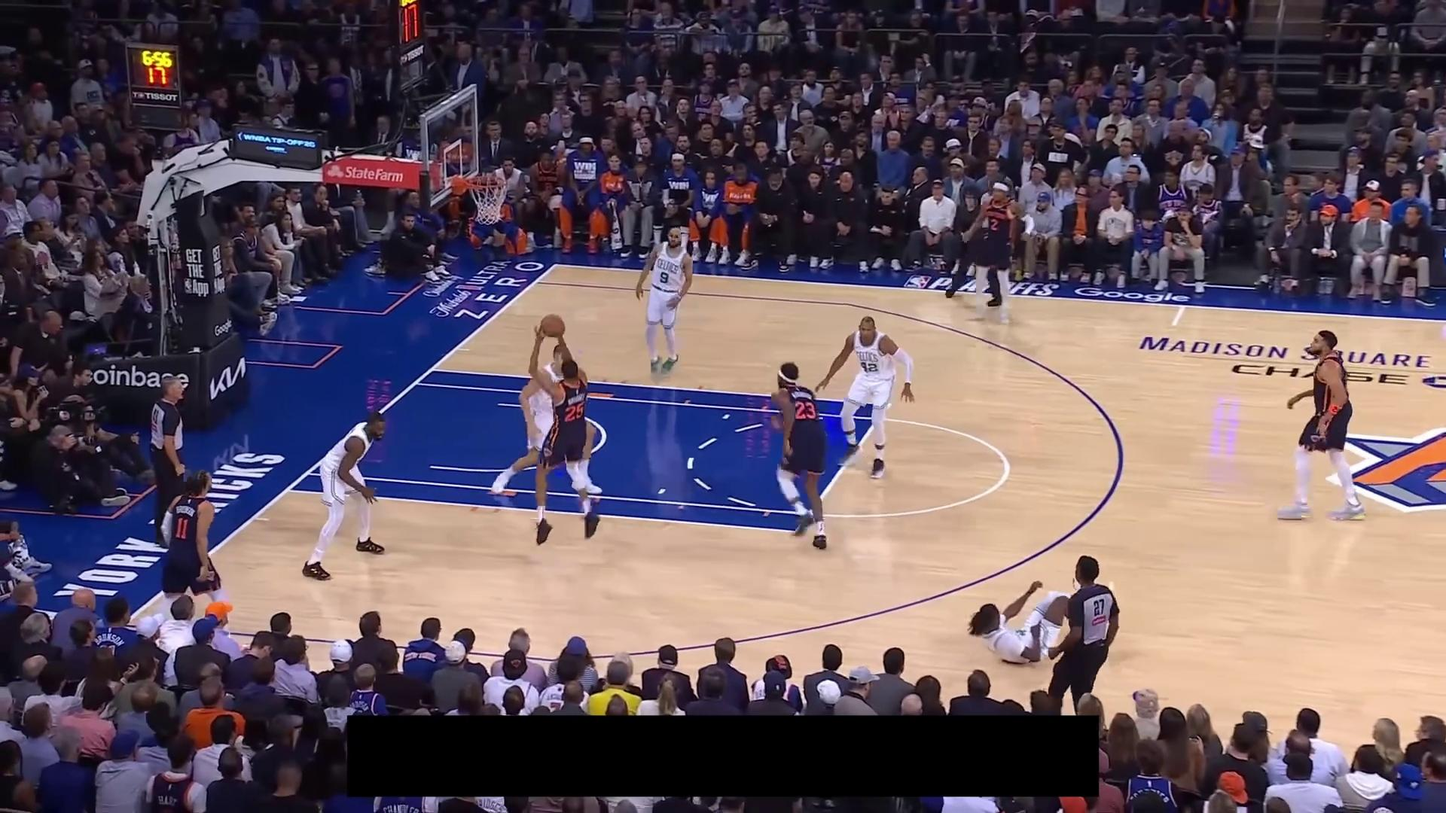ball: (540, 313, 566, 338)
number: (793, 400, 817, 421), (565, 402, 584, 422), (175, 516, 189, 541), (859, 360, 880, 375), (659, 270, 670, 285), (989, 217, 999, 231)
player: (1276, 329, 1367, 522), (813, 313, 917, 480), (491, 344, 603, 495), (301, 406, 390, 581), (970, 580, 1116, 665), (766, 361, 831, 551), (962, 180, 1035, 324), (160, 468, 226, 620), (633, 223, 695, 379)
player-jump-shot: (528, 324, 600, 546)
referee: (1048, 555, 1121, 715), (946, 179, 1002, 306), (148, 376, 189, 547)
rim: (465, 174, 507, 190)
